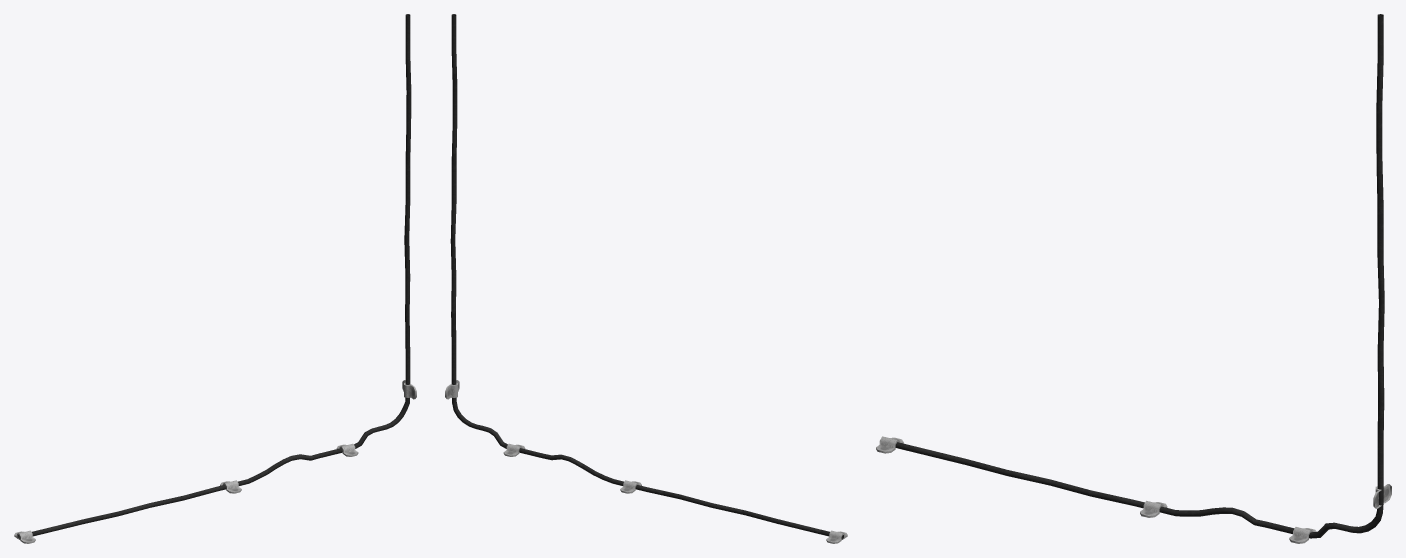
File: Cable_50cm_corner_ceilingPlinth.fbx
3 renders of one model, left to right at view 1: azimuth 30°, elevation 25°; view 2: azimuth 150°, elevation 25°; view 3: azimuth 330°, elevation 25°, orthographic. The views are drawn at different scales.
Parts seen in each view (by area): view 1: Cable_50cm_corner_ceilingPlinth; view 2: Cable_50cm_corner_ceilingPlinth; view 3: Cable_50cm_corner_ceilingPlinth.
Boxes of the visible parts, x1=… form: Cable_50cm_corner_ceilingPlinth: x1=14, y1=14, x2=416, y2=543; Cable_50cm_corner_ceilingPlinth: x1=445, y1=14, x2=847, y2=543; Cable_50cm_corner_ceilingPlinth: x1=876, y1=14, x2=1391, y2=543.
Size of the model in its own units: 50 by 52.5 by 2.92.
